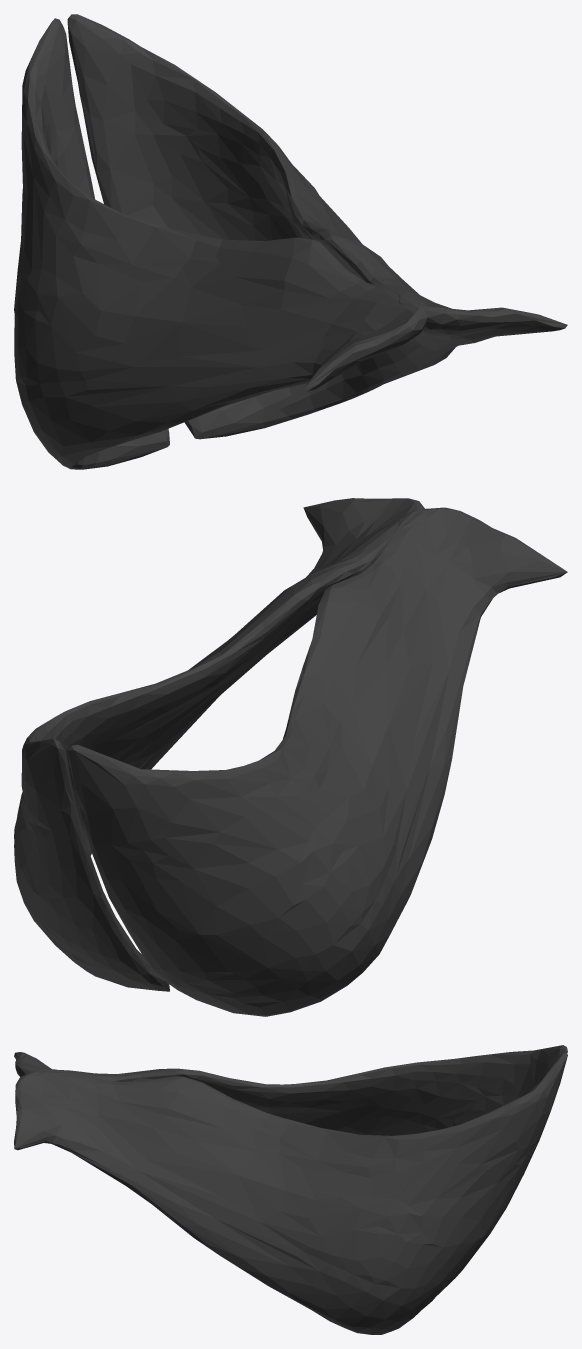
File: m_levator_ani.glb
The picture shows the model from 3 angles, top to bottom: view 1: azimuth 30°, elevation 25°; view 2: azimuth 150°, elevation 25°; view 3: azimuth 270°, elevation 25°; orthographic projection. The views are drawn at different scales.
Visible parts, largest first — view 1: m_levator_ani; view 2: m_levator_ani; view 3: m_levator_ani.
Boxes of the visible parts, x1,y1,x2,y2 form: m_levator_ani: (14, 14, 567, 469); m_levator_ani: (14, 498, 567, 1016); m_levator_ani: (14, 1045, 567, 1334).
Size of the model in its own units: 0.00143 by 0.00138 by 0.00273.
Materials: 1 (1 with a texture image).
